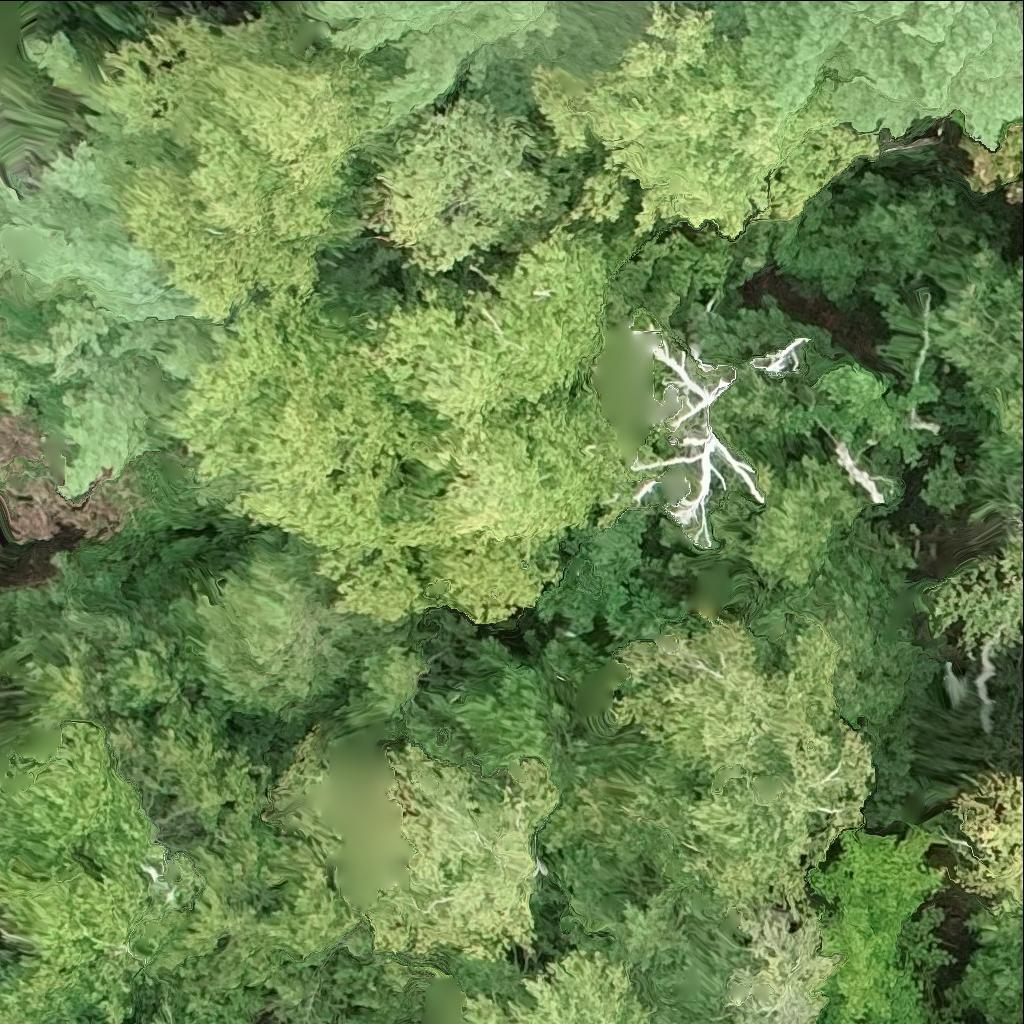crown: (464, 949, 654, 1023), (951, 769, 1023, 921), (962, 913, 1023, 1023)
